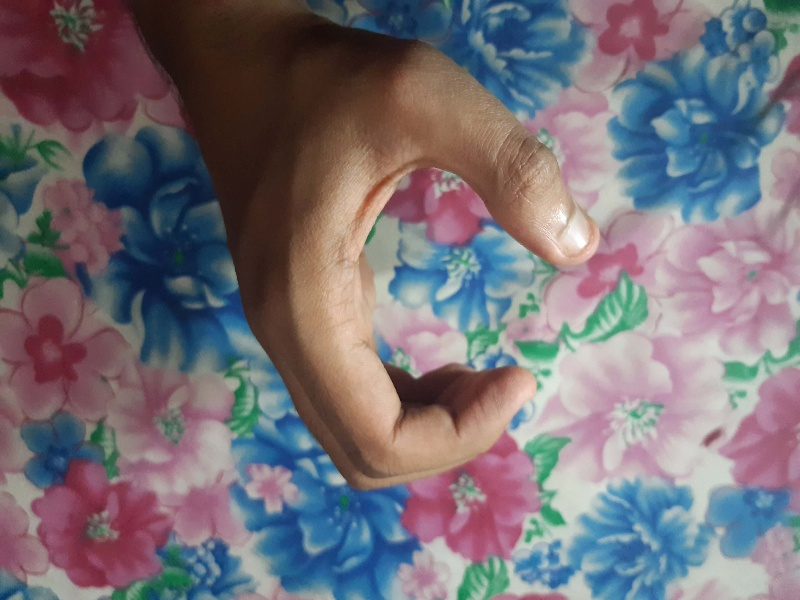one: (211, 31, 613, 493)
